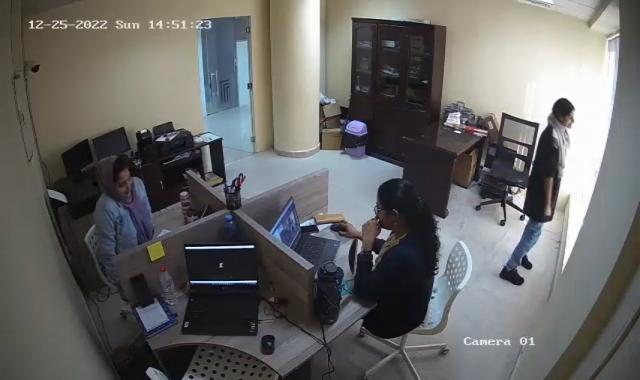no_hairnet: (375, 180, 416, 228), (97, 157, 134, 196), (556, 95, 575, 133)
